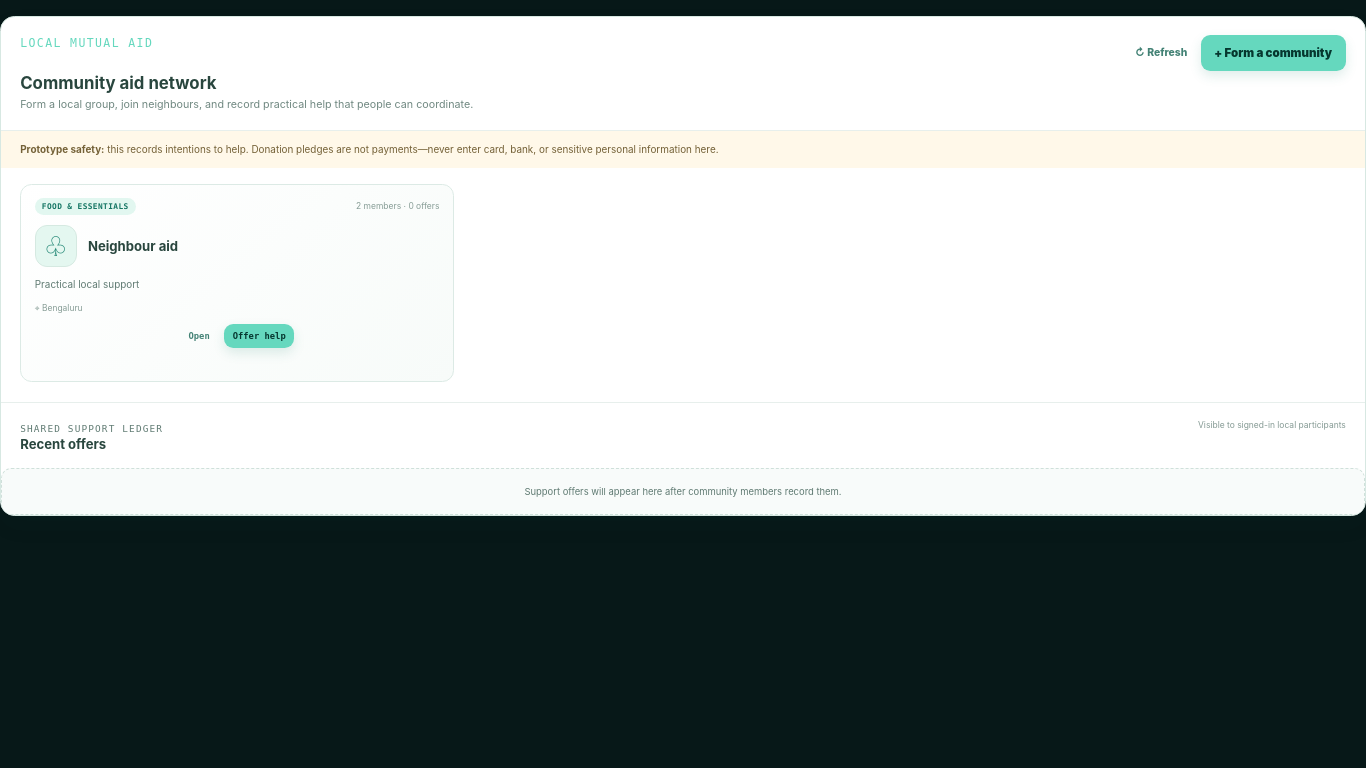
it: submits a new community as a private approval request in a dialog
Expected: the heading "Neighbour aid" is shown, [88,237,178,255]
Click the button "+ Form a community" at (1273, 53), box [1201,35,1346,71]
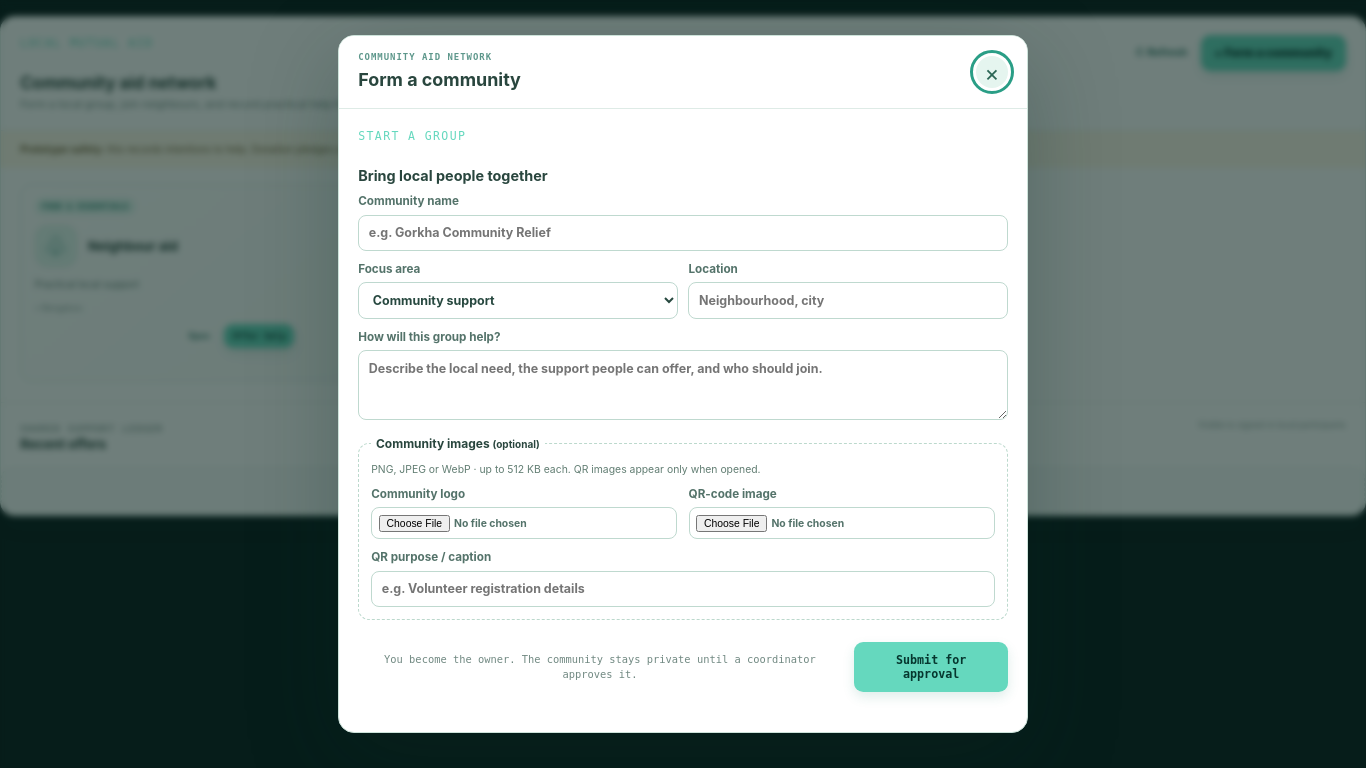
Type "New group" into the field labelled "Community name" at (683, 233), box [358,215,1008,251]
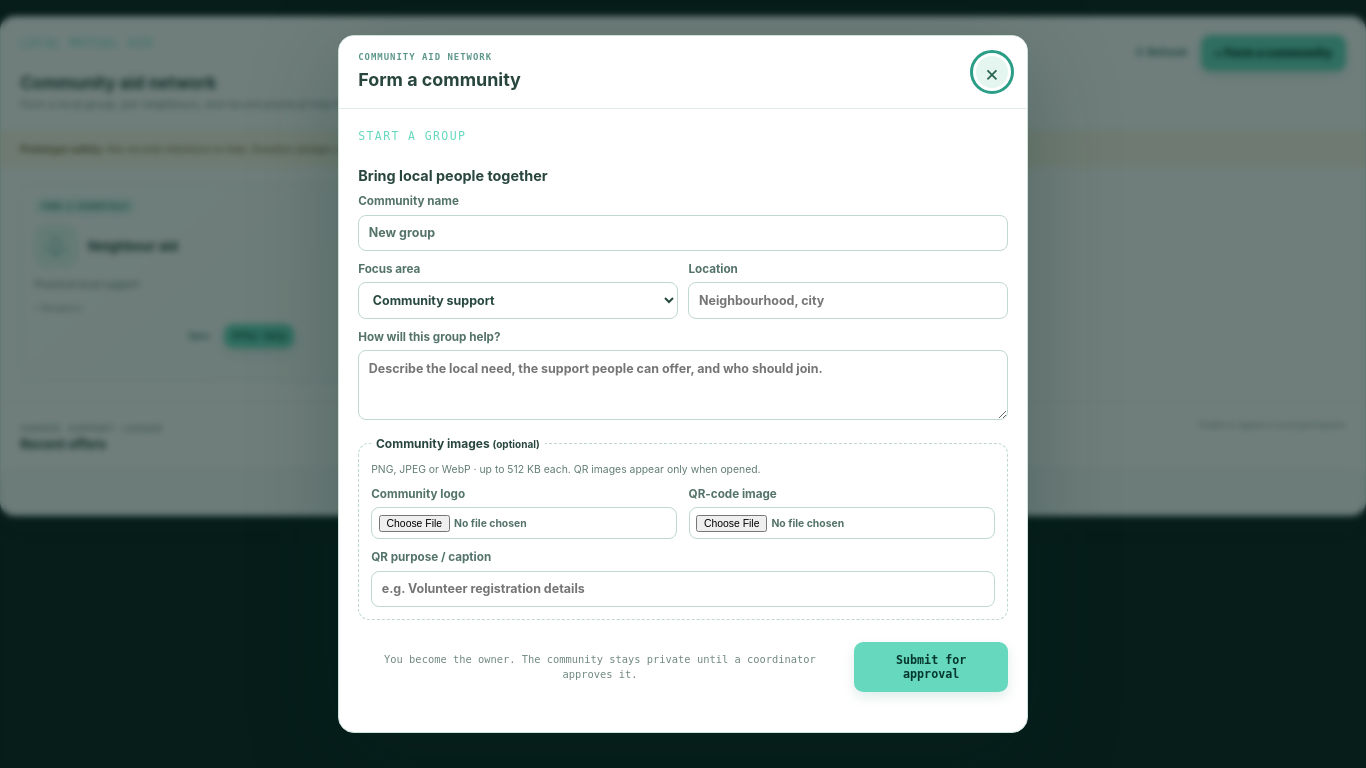
Type "Jayanagar" into the field labelled "Location" at (848, 301), box [688,282,1008,319]
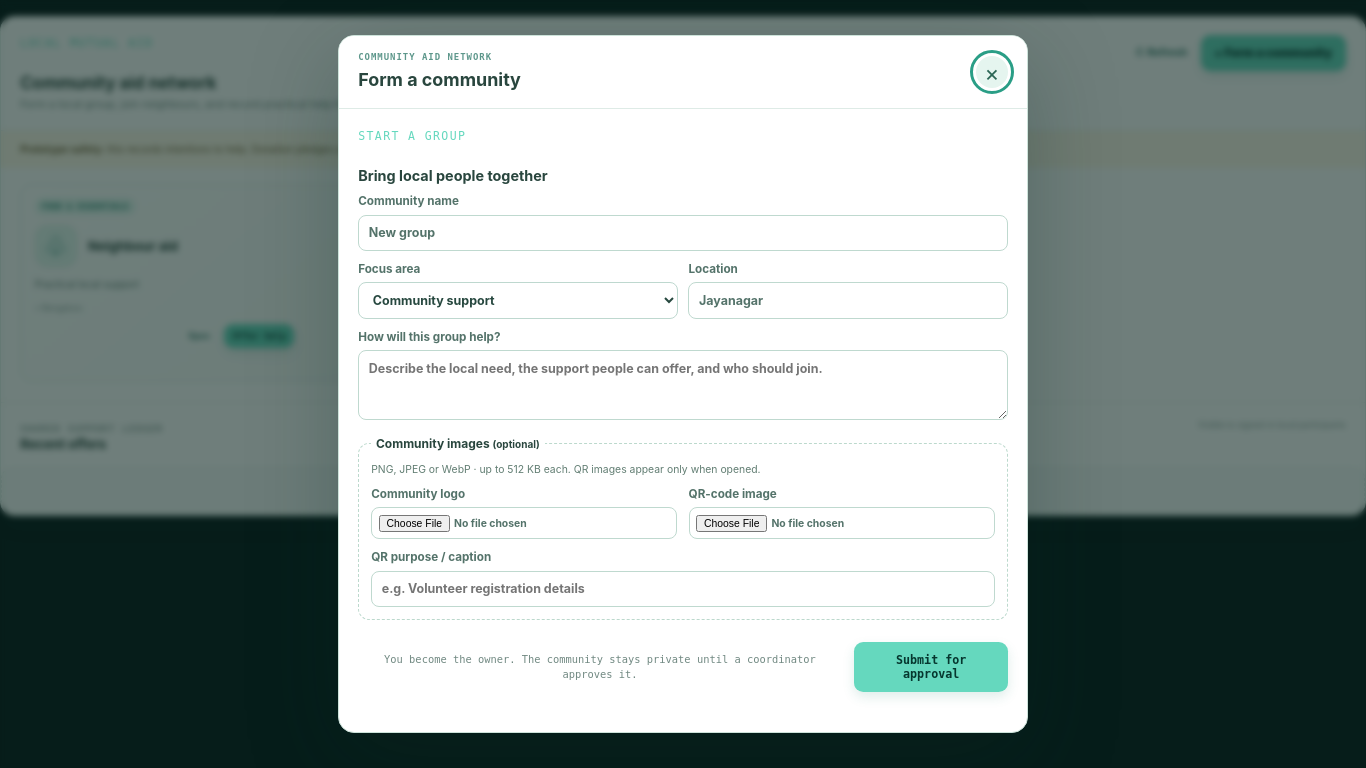
Replace the text in the text box labelled "How will this group help?" with "Helping local neighbours" at (683, 385), box [358,350,1008,420]
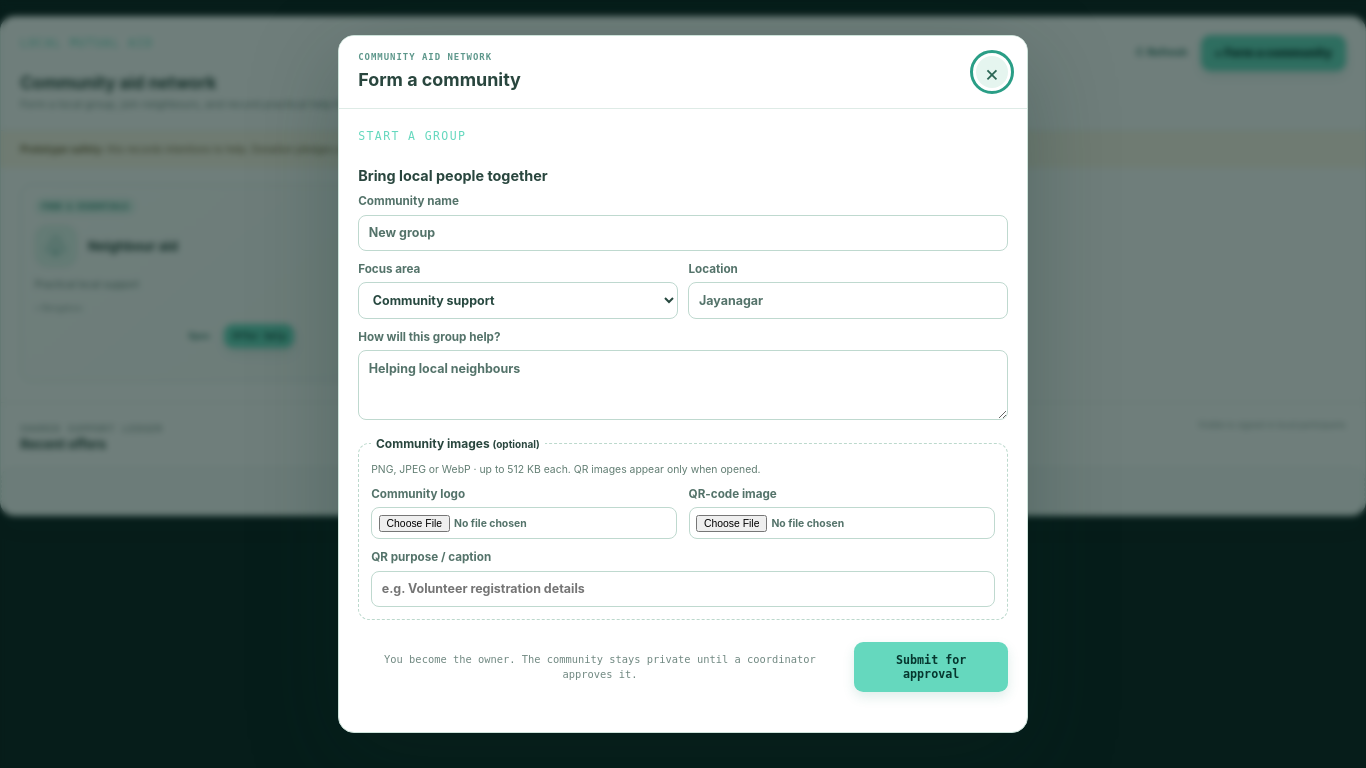
Click the button "Submit for approval" at (931, 667), box [854,642,1008,692]
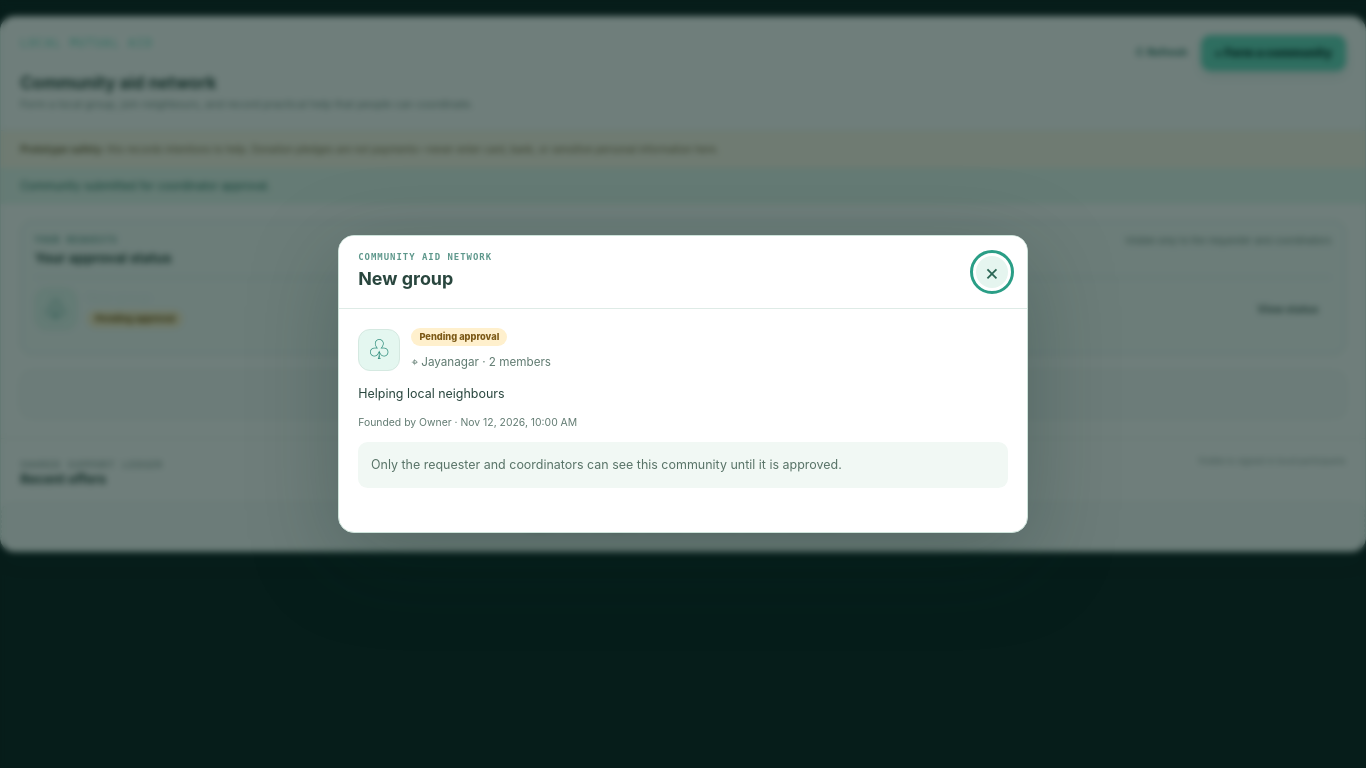
Result: the text "Community submitted for coordinator approval." is shown at [1,168,1365,204]
